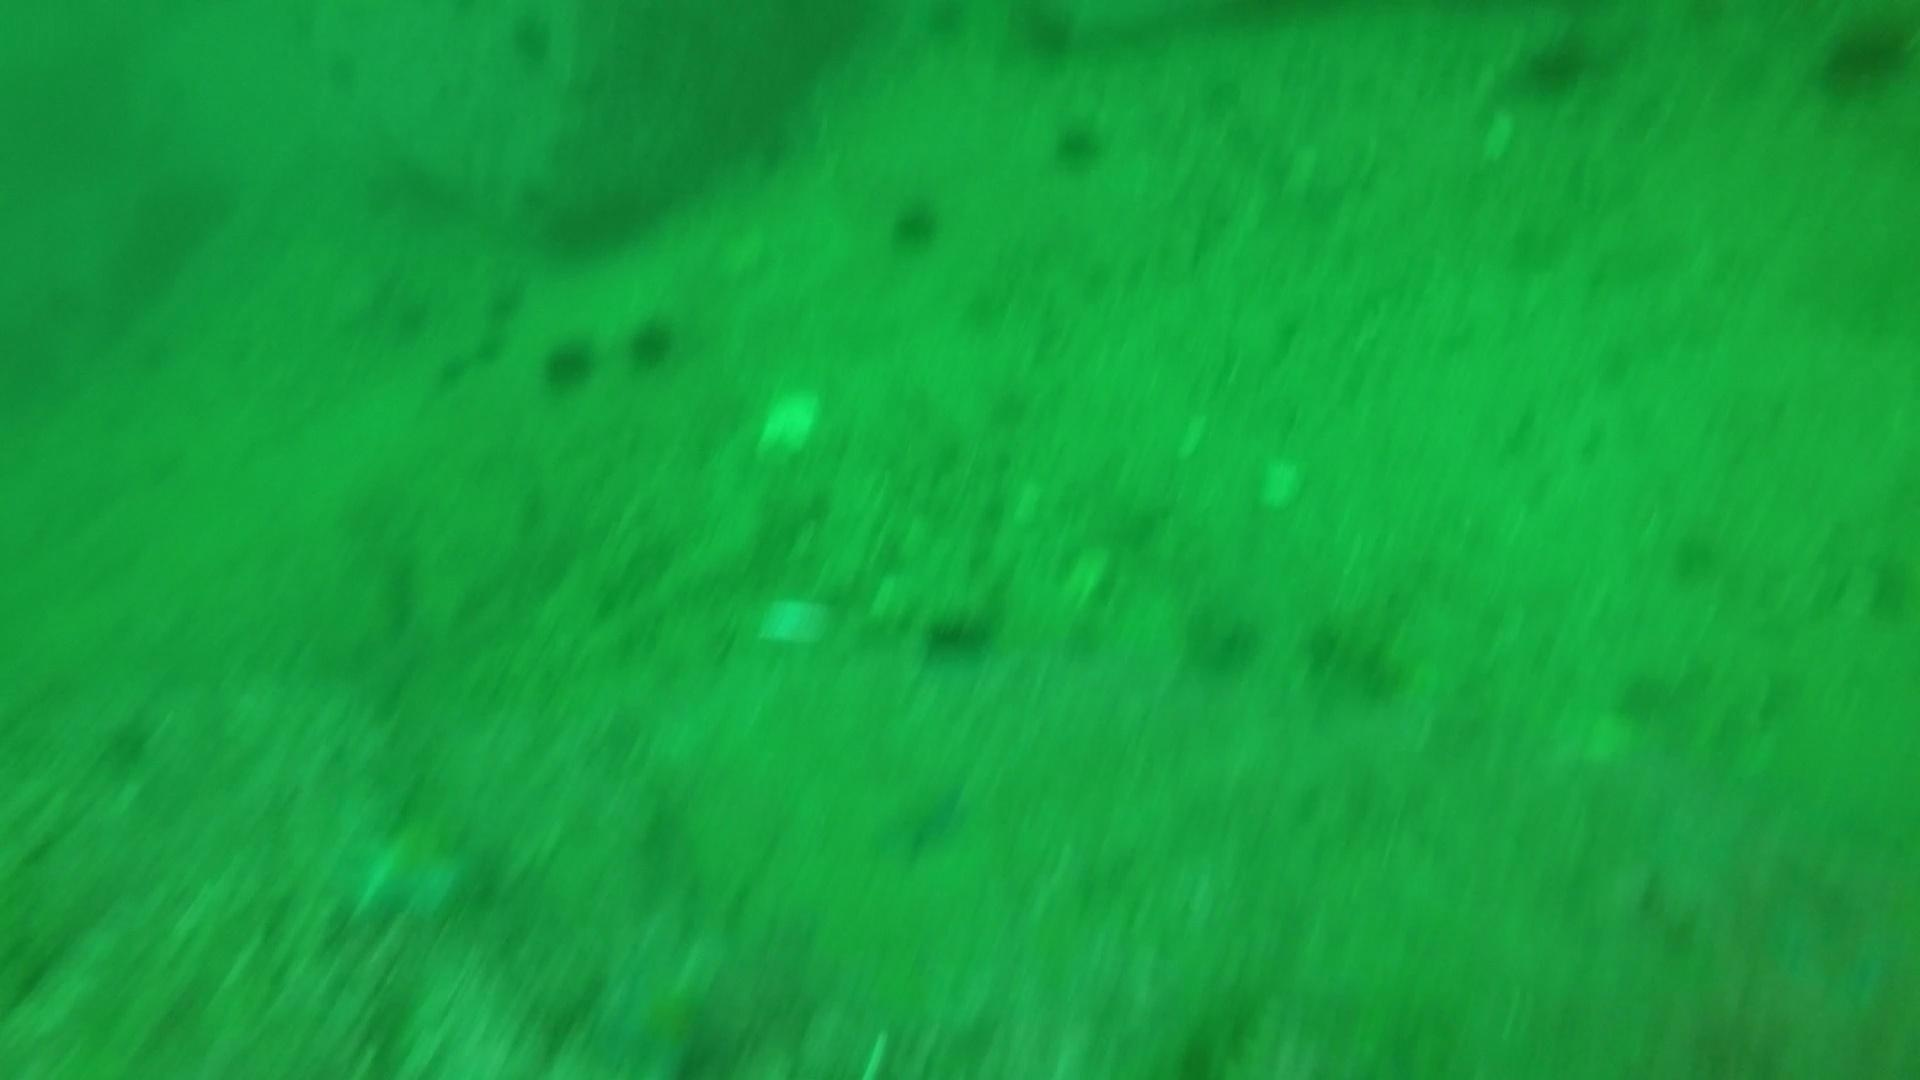echinus: (1809, 8, 1917, 105), (1513, 32, 1597, 103), (915, 603, 1000, 669), (1004, 3, 1084, 66), (497, 13, 563, 78), (535, 332, 601, 396), (884, 190, 948, 253), (1046, 113, 1112, 174), (622, 311, 682, 372)
starfish: (319, 789, 485, 934), (588, 944, 745, 1079), (864, 766, 976, 869)
